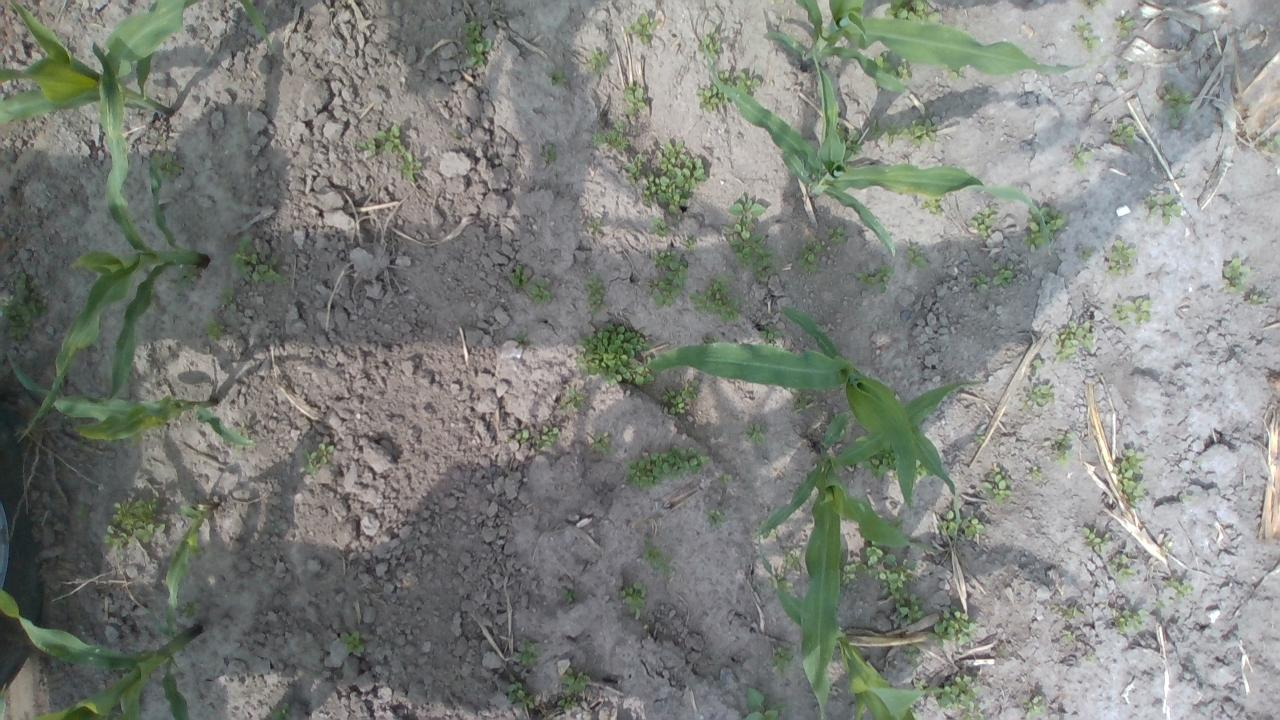Maize: (756, 375, 986, 720), (20, 40, 206, 442), (708, 51, 1052, 257), (646, 302, 952, 508), (0, 0, 281, 126), (754, 542, 940, 720), (761, 0, 1082, 97), (0, 588, 200, 720), (3, 349, 258, 448), (162, 502, 220, 648)
Weeds: (575, 320, 657, 386), (862, 540, 926, 624), (642, 138, 708, 217), (722, 194, 780, 280), (622, 442, 713, 492), (360, 124, 422, 182), (101, 498, 168, 550), (1, 272, 48, 343), (230, 235, 288, 285), (643, 248, 690, 308), (690, 276, 744, 320), (938, 674, 986, 720), (927, 606, 978, 648), (1024, 204, 1068, 252), (1114, 447, 1148, 508), (865, 118, 937, 145), (1054, 320, 1094, 362), (460, 20, 492, 70), (1160, 82, 1194, 128), (884, 0, 943, 26), (660, 378, 700, 415), (741, 687, 784, 720), (641, 538, 676, 578), (854, 264, 896, 297), (1104, 238, 1138, 276), (874, 54, 912, 88), (591, 119, 630, 152), (616, 580, 648, 620), (966, 206, 1002, 241), (297, 443, 333, 477), (980, 468, 1014, 504), (1110, 296, 1152, 325), (1144, 192, 1182, 224), (860, 450, 899, 481), (716, 70, 760, 96), (626, 10, 656, 48), (511, 638, 541, 672), (1072, 15, 1101, 50), (696, 85, 730, 114), (1223, 256, 1250, 292), (584, 270, 606, 312), (505, 678, 535, 708), (836, 128, 864, 160), (1108, 553, 1136, 584), (1070, 142, 1097, 174), (798, 242, 825, 274), (622, 84, 649, 116), (698, 27, 723, 61), (1080, 526, 1110, 554), (560, 668, 590, 696), (1118, 608, 1149, 634), (904, 241, 928, 274), (526, 275, 552, 305), (1024, 385, 1056, 408), (990, 262, 1016, 290), (1053, 432, 1074, 466), (152, 153, 178, 180), (961, 514, 988, 538), (770, 646, 794, 673), (205, 312, 226, 342), (838, 561, 862, 587), (622, 154, 642, 185), (1110, 122, 1138, 144), (340, 630, 364, 655), (560, 386, 583, 412), (744, 421, 766, 448), (920, 194, 944, 217), (825, 224, 848, 248), (536, 426, 560, 449), (590, 430, 613, 454), (1114, 14, 1135, 39), (765, 574, 794, 592), (270, 702, 298, 720), (752, 520, 776, 540), (176, 264, 196, 288), (939, 510, 959, 534), (588, 47, 608, 71), (1166, 580, 1192, 598), (942, 62, 966, 81), (1024, 694, 1046, 714), (782, 550, 802, 572), (706, 508, 725, 530), (1260, 132, 1280, 152), (760, 326, 784, 342), (547, 66, 567, 85), (912, 458, 929, 480), (511, 264, 527, 287), (181, 600, 201, 618), (798, 392, 818, 410), (970, 272, 990, 290), (651, 217, 669, 236), (558, 586, 578, 602), (218, 285, 234, 304), (78, 502, 90, 527), (558, 698, 578, 712), (904, 646, 921, 661), (544, 142, 556, 162), (511, 330, 529, 343), (1065, 606, 1081, 620), (1246, 293, 1264, 305), (1078, 246, 1091, 260), (719, 474, 732, 487), (587, 221, 600, 234), (514, 430, 528, 442), (1031, 467, 1041, 481), (974, 428, 985, 440), (913, 678, 925, 689), (1030, 358, 1042, 368), (1062, 631, 1074, 641), (686, 238, 696, 250), (1178, 494, 1186, 503)
